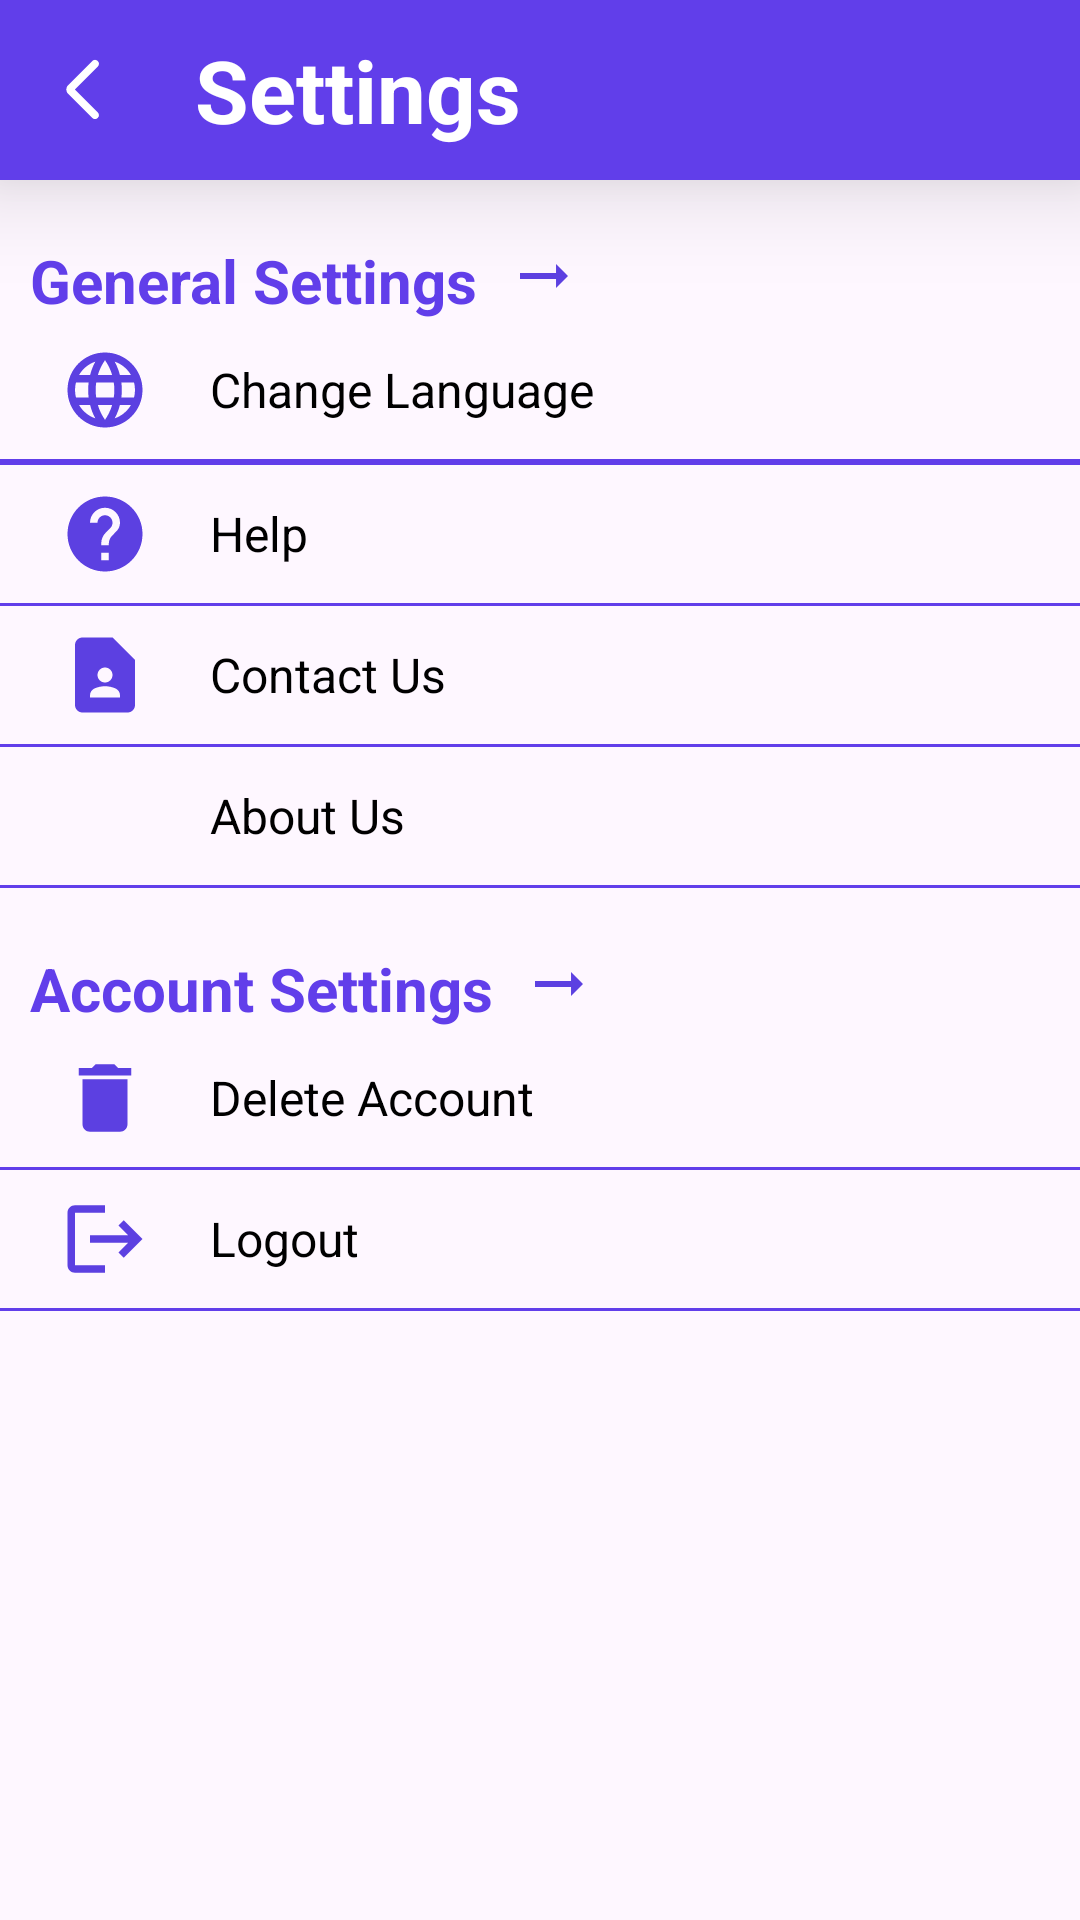

Screen size 1080*1920. Icon name, then its center in pixels as (x,y):
arrow right: (544,276), (559,984)
arrowback: (82,89)
contact page: (105,675)
